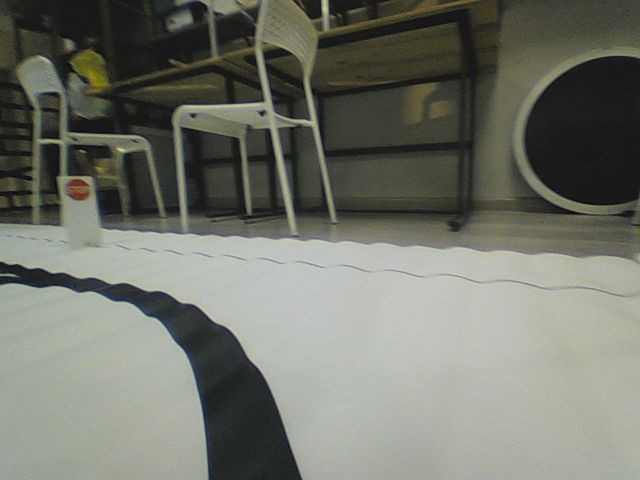Stop: (64, 178, 90, 202)
